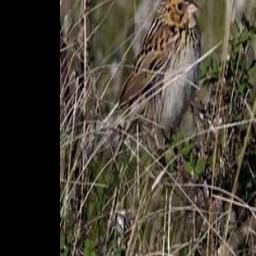Sparrow: (81, 0, 205, 164)
